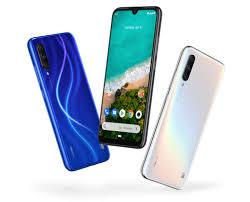Smartphone: (139, 51, 239, 192), (24, 28, 113, 170), (97, 5, 163, 147)
